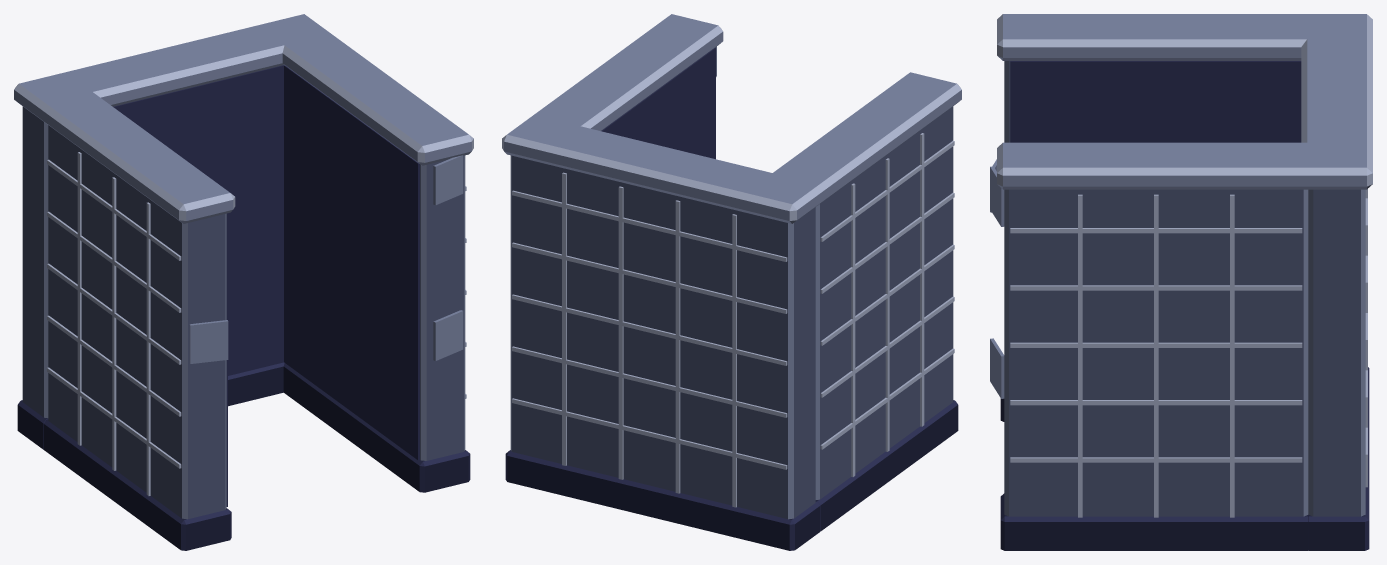
The model's file is Hide_DepositStack.fbx.
3 renders of one model, left to right at view 1: azimuth 30°, elevation 25°; view 2: azimuth 150°, elevation 25°; view 3: azimuth 270°, elevation 25°, orthographic. The views are drawn at different scales.
Parts seen in each view (by area): view 1: Hide_DepositStack; view 2: Hide_DepositStack; view 3: Hide_DepositStack.
Part boxes in pixels (box(x1,y1,x2,y2)): Hide_DepositStack: box(14, 14, 473, 550); Hide_DepositStack: box(502, 14, 961, 550); Hide_DepositStack: box(990, 14, 1372, 550).
Size of the model in its own units: 6.24 by 7 by 6.35.
1 material, 1 textured.
